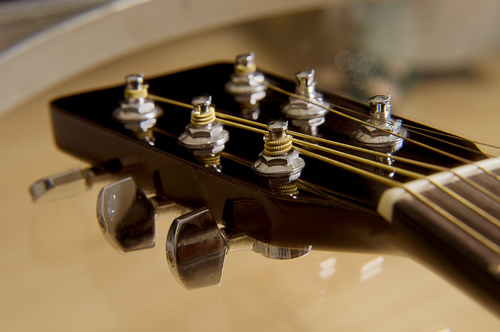guitar: (54, 60, 500, 314)
